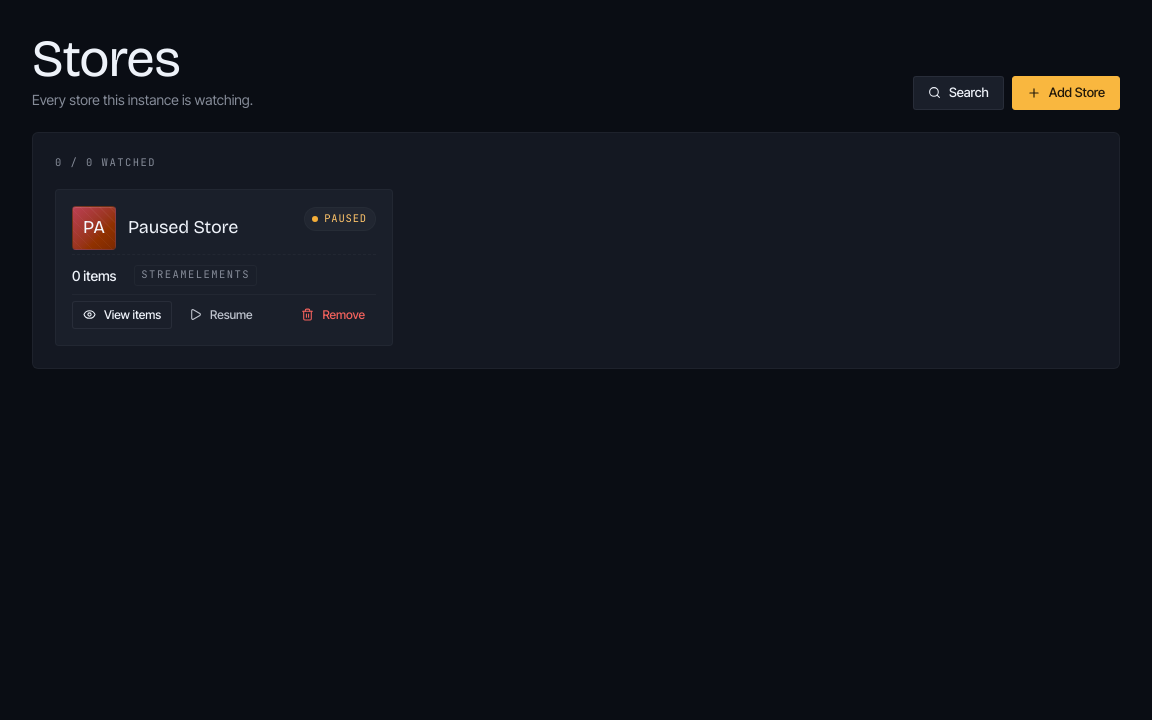
Scenario: StoresPage › shows 'Store resumed' toast after resuming paused store
Click the button "Resume": (221, 315) x1=178 y1=301 x2=264 y2=329
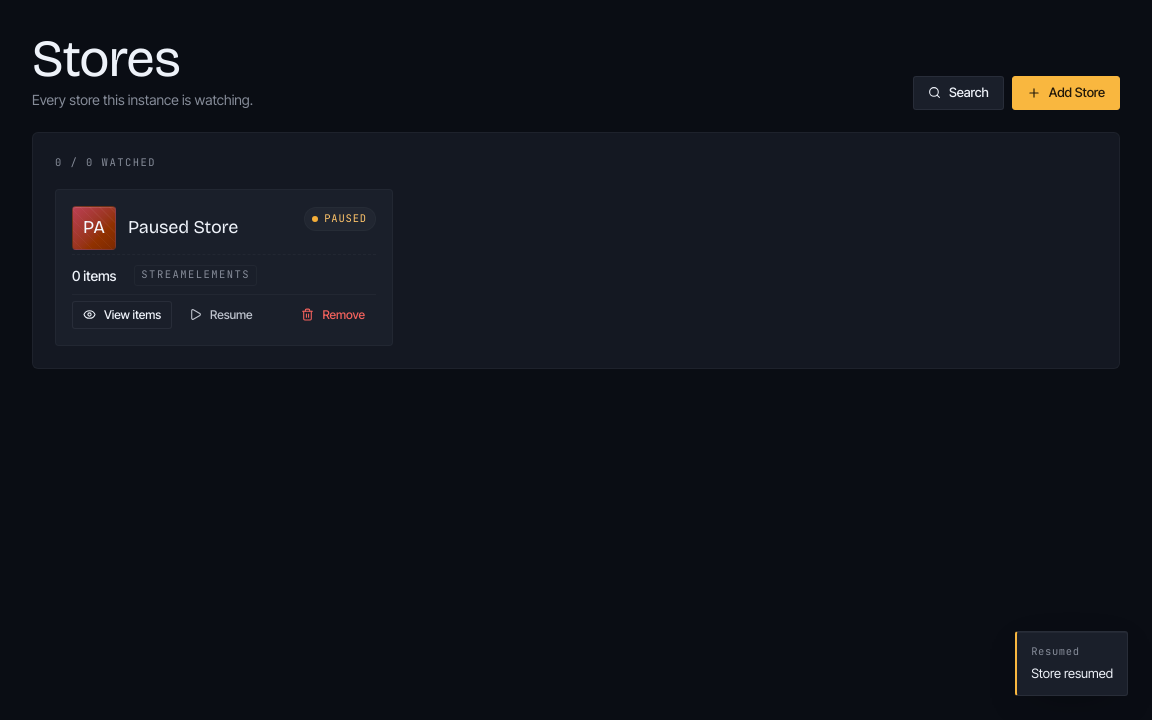
Now the text "Store resumed" is shown, box x1=1031 y1=664 x2=1113 y2=683
